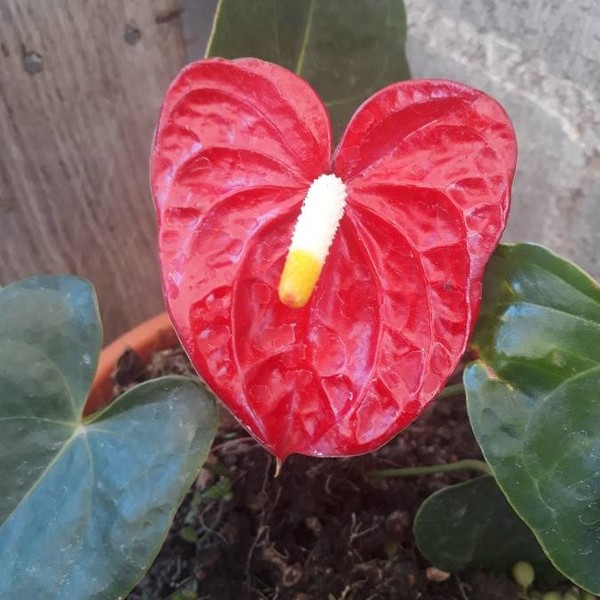obstacle: (146, 49, 588, 576)
